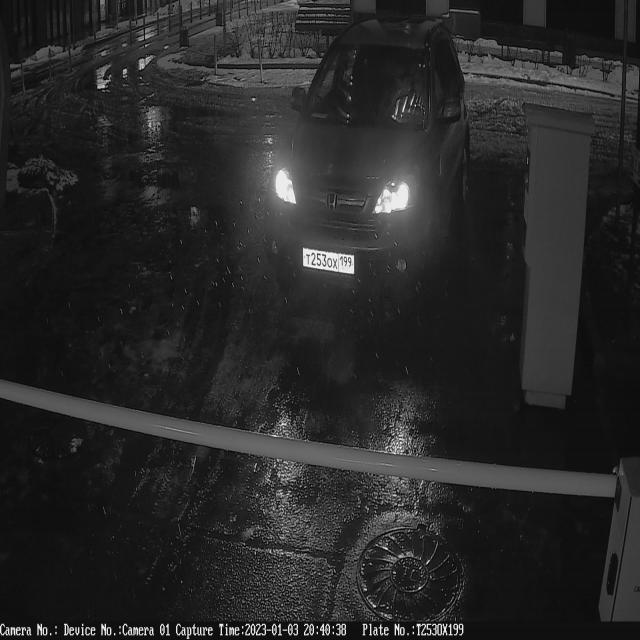car-plate-numbers: (301, 246, 358, 280)
